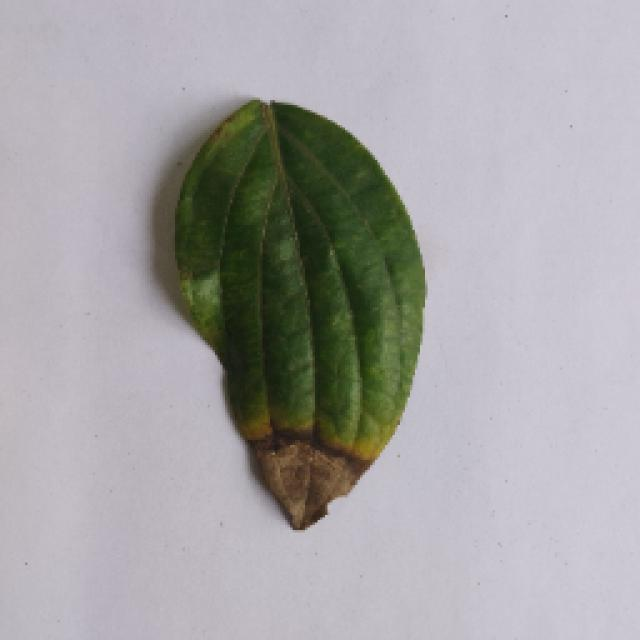footrot: (170, 92, 425, 532)
